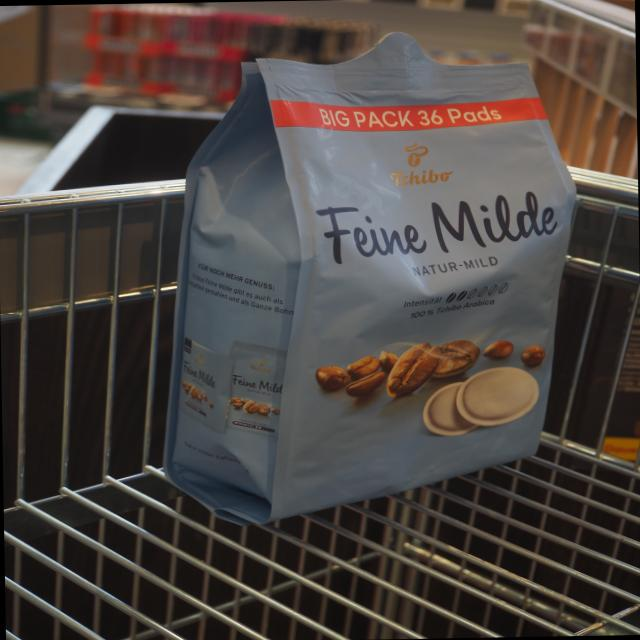FM 36 Pads: (149, 21, 589, 536)
